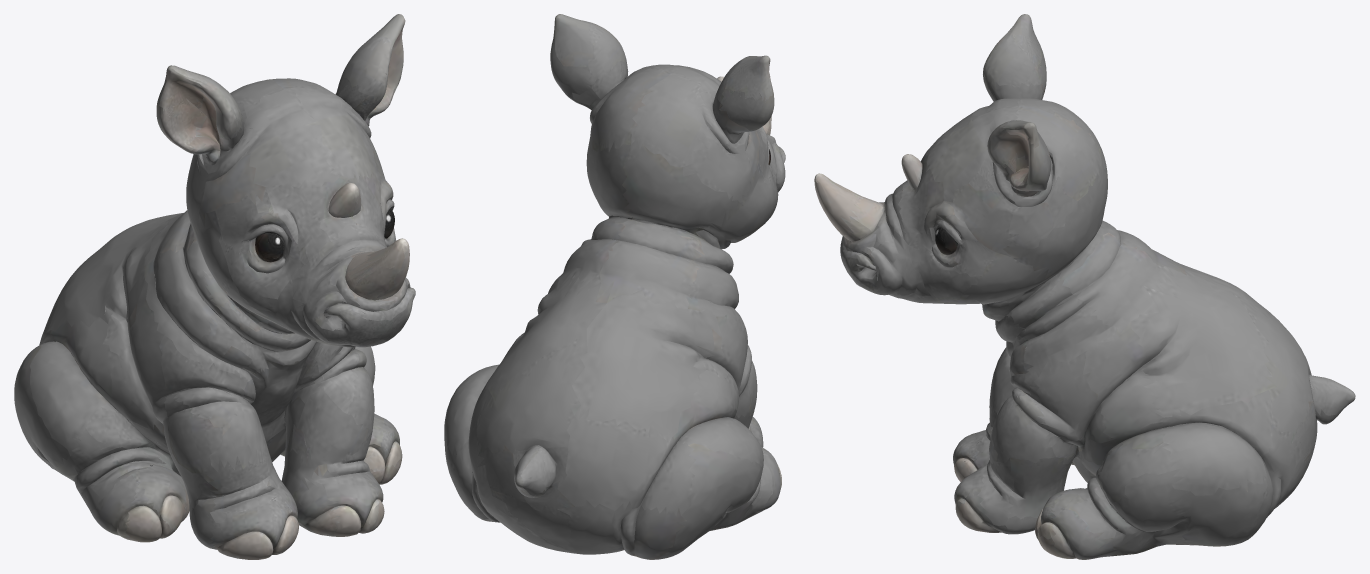
3 renders of one model, left to right at view 1: azimuth 30°, elevation 25°; view 2: azimuth 150°, elevation 25°; view 3: azimuth 270°, elevation 25°, orthographic. The views are drawn at different scales.
Visible parts, largest first — view 1: output_unwrapped; view 2: output_unwrapped; view 3: output_unwrapped.
Boxes of the visible parts, <box> form: output_unwrapped: <box>14,14,415,559</box>; output_unwrapped: <box>444,14,785,559</box>; output_unwrapped: <box>814,14,1355,559</box>.
Size of the model in its own units: 1.2 by 1.7 by 1.9.
1 material, 1 textured.
